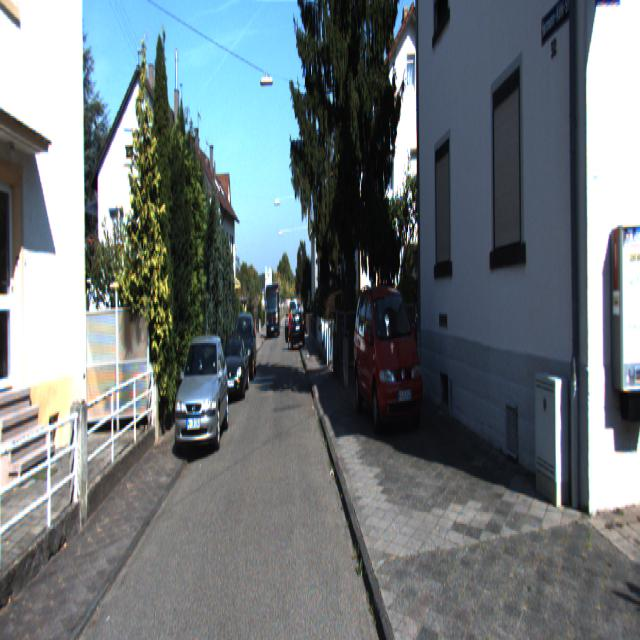Car: (352, 279, 424, 443), (174, 330, 228, 462), (218, 332, 248, 405), (231, 308, 256, 378)
